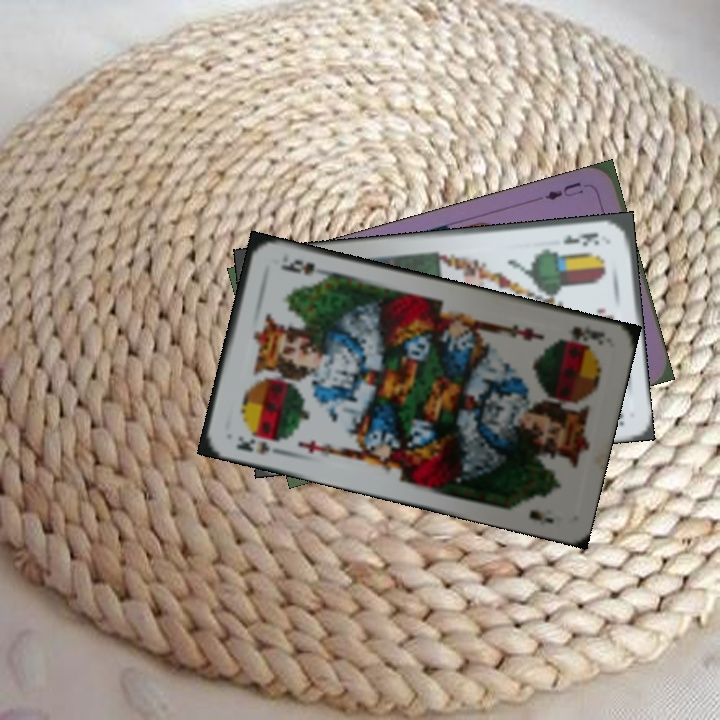EK: (559, 228, 601, 249)
EU: (541, 178, 586, 203)
SK: (232, 430, 285, 458), (555, 322, 608, 349)
